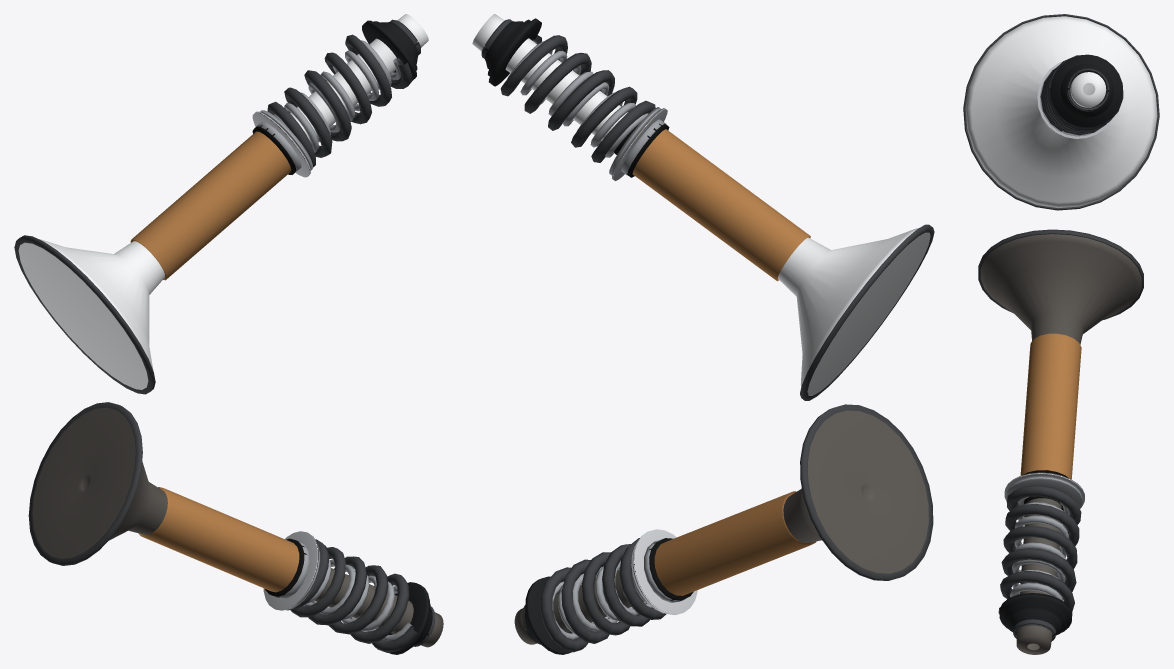
Rendered from valve-set-6.glb.
The picture shows the model from 3 angles, left to right: view 1: azimuth 30°, elevation 25°; view 2: azimuth 150°, elevation 25°; view 3: azimuth 270°, elevation 25°; orthographic projection. The views are drawn at different scales.
Parts seen in each view (by area): view 1: valve-set-6:bronze, valve-set-6:darkSteel, valve-set-6:heatSteel, valve-set-6:chrome, valve-set-6:steel, valve-set-6:satinBlack, valve-set-6:polishedSteel, valve-set-6:rubber; view 2: valve-set-6:bronze, valve-set-6:darkSteel, valve-set-6:heatSteel, valve-set-6:chrome, valve-set-6:steel, valve-set-6:satinBlack, valve-set-6:polishedSteel, valve-set-6:rubber; view 3: valve-set-6:chrome, valve-set-6:heatSteel, valve-set-6:darkSteel, valve-set-6:bronze, valve-set-6:satinBlack, valve-set-6:steel, valve-set-6:polishedSteel.
Part boxes in pixels (box(x1,y1,x2,y2)): valve-set-6:bronze: box(130, 131, 299, 592); valve-set-6:darkSteel: box(14, 19, 435, 652); valve-set-6:heatSteel: box(32, 407, 443, 647); valve-set-6:chrome: box(18, 14, 428, 389); valve-set-6:steel: box(256, 40, 412, 640); valve-set-6:satinBlack: box(362, 20, 432, 654); valve-set-6:polishedSteel: box(252, 111, 318, 610); valve-set-6:rubber: box(252, 125, 306, 597); valve-set-6:bronze: box(632, 129, 816, 595); valve-set-6:darkSteel: box(481, 19, 934, 652); valve-set-6:heatSteel: box(514, 410, 928, 644); valve-set-6:chrome: box(472, 14, 930, 395); valve-set-6:steel: box(507, 40, 685, 639); valve-set-6:satinBlack: box(484, 18, 572, 654); valve-set-6:polishedSteel: box(612, 108, 697, 614); valve-set-6:rubber: box(614, 123, 693, 601); valve-set-6:chrome: box(965, 16, 1157, 207); valve-set-6:heatSteel: box(980, 234, 1141, 654); valve-set-6:darkSteel: box(963, 14, 1159, 641); valve-set-6:bronze: box(1020, 333, 1081, 479); valve-set-6:satinBlack: box(999, 54, 1123, 636); valve-set-6:steel: box(1006, 68, 1103, 600); valve-set-6:polishedSteel: box(1004, 61, 1112, 507).
Bounding box in the file's own units: 112 × 164 × 49.5.
